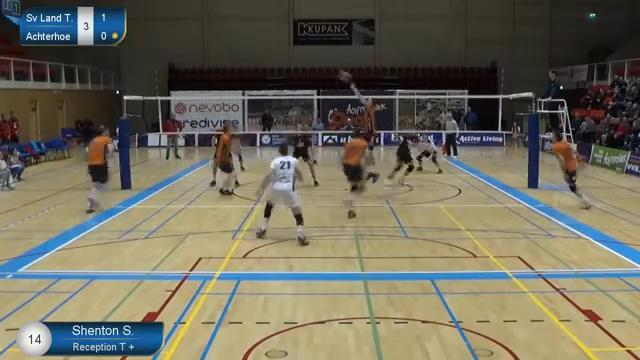alzata: (343, 81, 387, 188)
